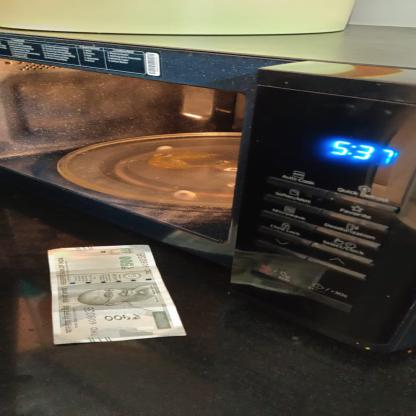New500Front: (44, 246, 188, 346)
